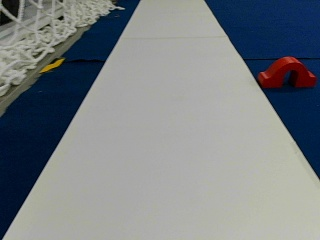bridge: (259, 56, 315, 86)
